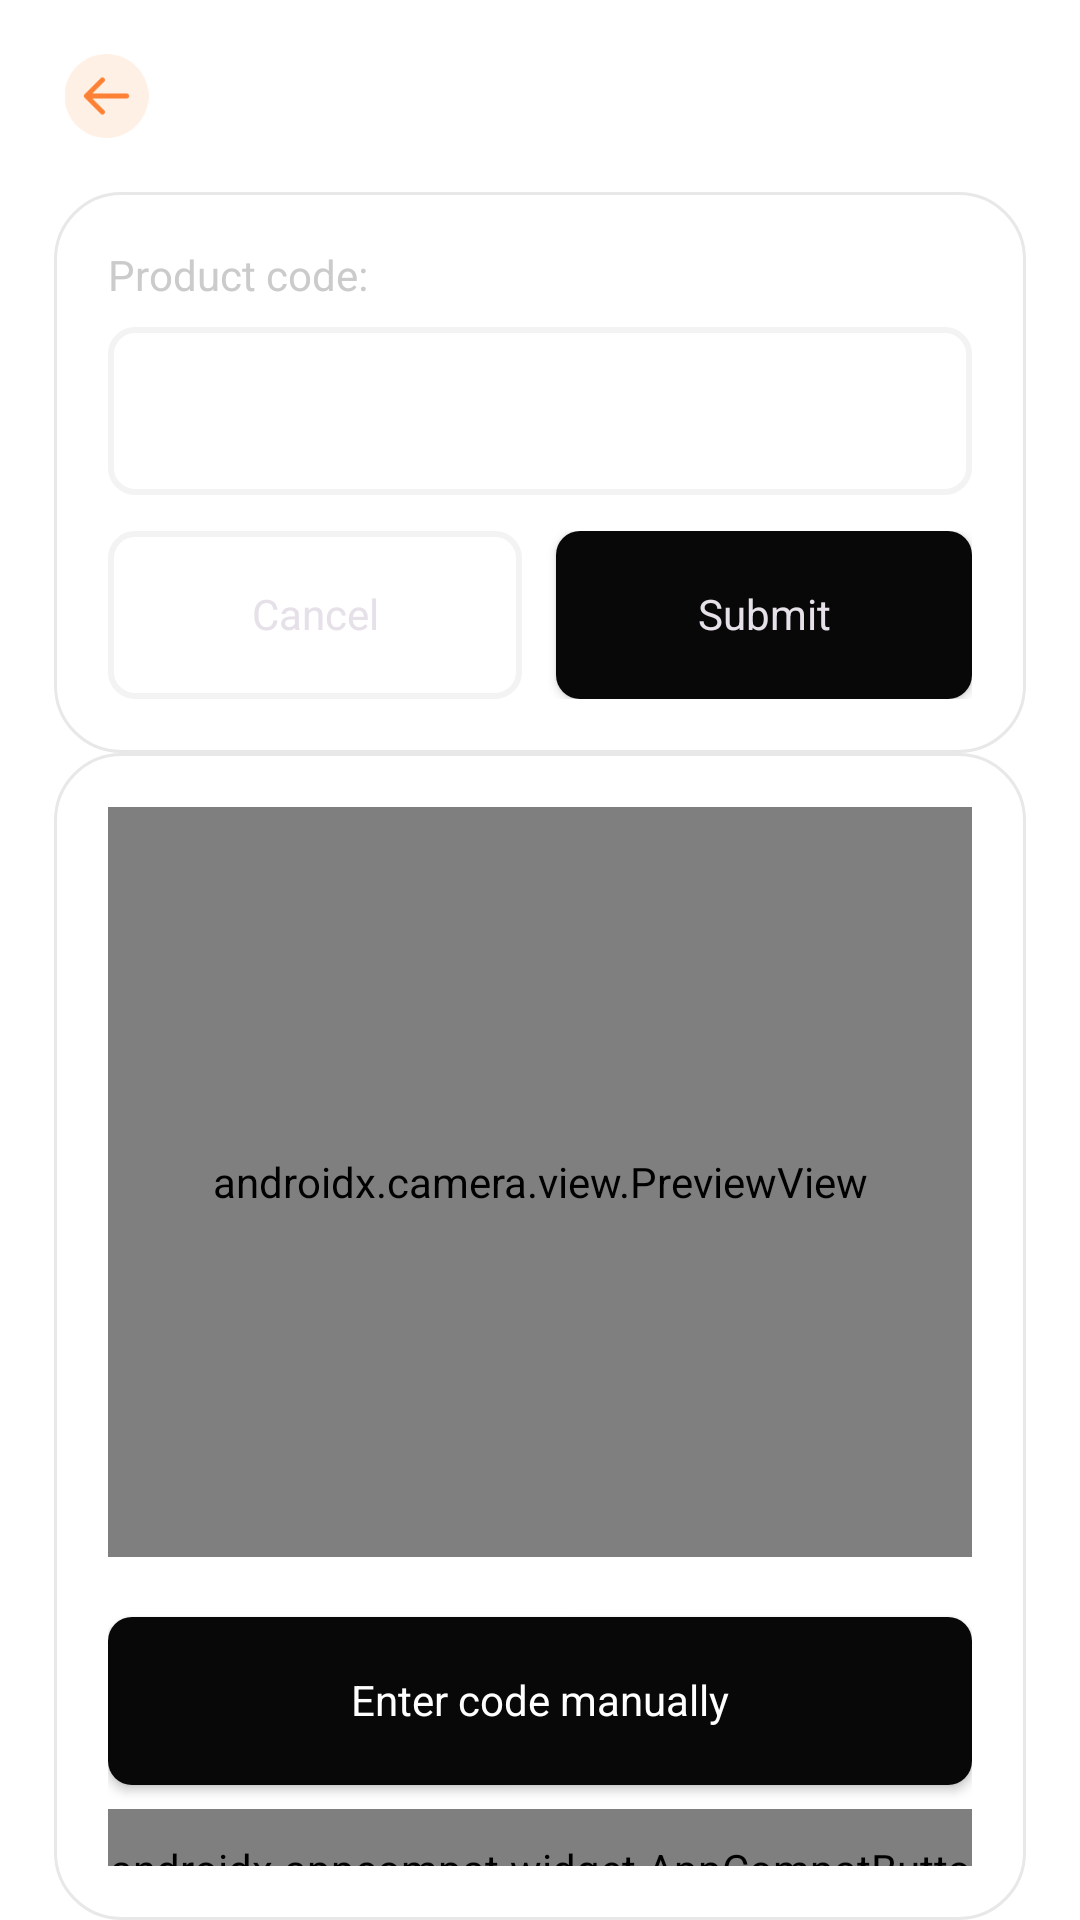

Icons on this 1080 x 1920 Android screen, each with the point to tap as [x,y]:
back: [107,96]
